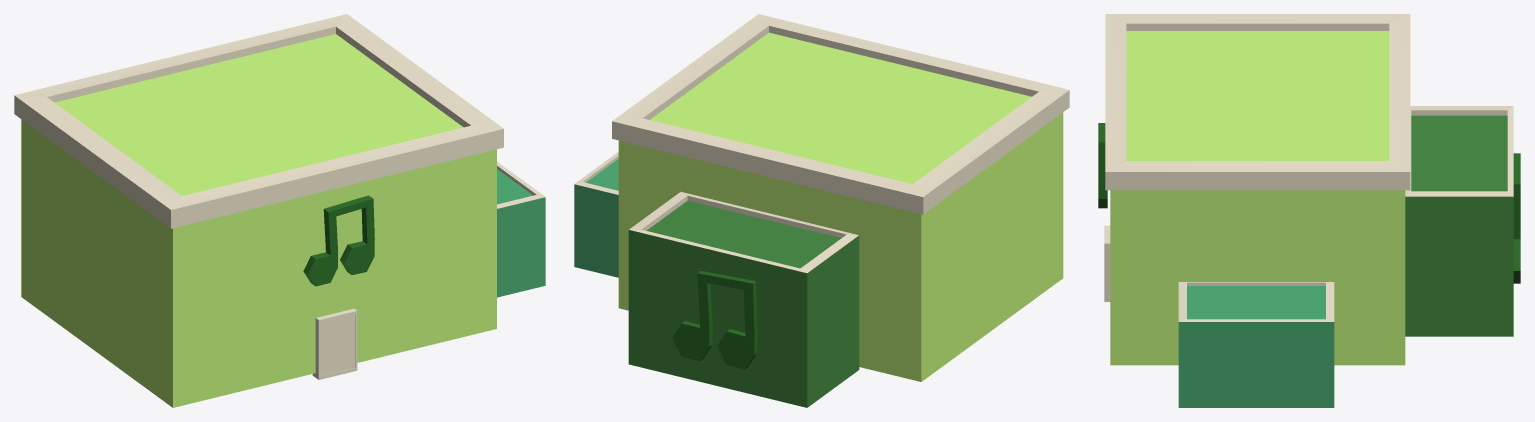
File: M_City_Club_TIle.fbx
3 views of the same model, side by side, from view 1: azimuth 30°, elevation 25°; view 2: azimuth 150°, elevation 25°; view 3: azimuth 270°, elevation 25° (orthographic). The views are drawn at different scales.
Visible parts, largest first — view 1: pCylinder5; view 2: pCylinder5; view 3: pCylinder5.
Boxes of the visible parts, bbox=[...] form: pCylinder5: bbox=[14, 14, 545, 407]; pCylinder5: bbox=[574, 14, 1069, 407]; pCylinder5: bbox=[1098, 14, 1520, 407].
Size of the model in its own units: 0.92 by 0.4395 by 0.8383.
Materials: 1 (1 with a texture image).
